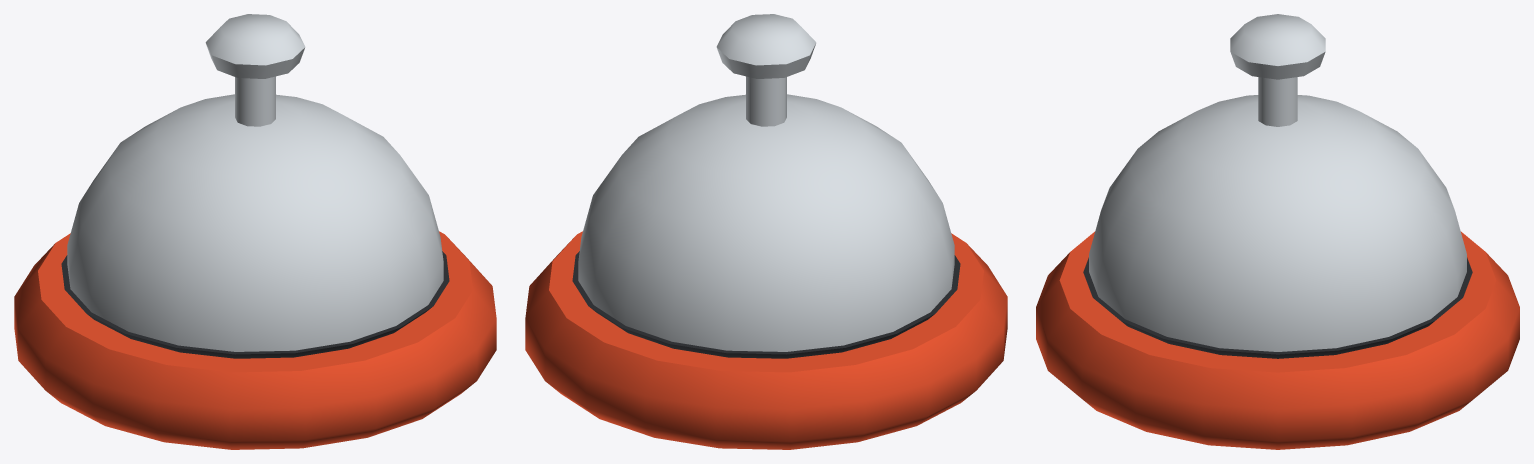
File: Kitchen_CounterBell.fbx
3 views of the same model, side by side, from view 1: azimuth 30°, elevation 25°; view 2: azimuth 150°, elevation 25°; view 3: azimuth 270°, elevation 25° (orthographic).
Parts seen in each view (by area): view 1: Dome, Base, Plunger, Seat; view 2: Dome, Base, Plunger, Seat; view 3: Dome, Base, Plunger, Seat.
Part boxes in pixels (left/top/right/bottom): Dome: left=67, top=94, right=443, bottom=351; Base: left=14, top=231, right=496, bottom=449; Plunger: left=205, top=14, right=305, bottom=126; Seat: left=61, top=251, right=449, bottom=358; Dome: left=578, top=94, right=954, bottom=351; Base: left=525, top=231, right=1007, bottom=449; Plunger: left=716, top=14, right=816, bottom=126; Seat: left=572, top=251, right=960, bottom=358; Dome: left=1089, top=95, right=1466, bottom=351; Base: left=1036, top=231, right=1519, bottom=449; Plunger: left=1230, top=14, right=1325, bottom=126; Seat: left=1083, top=257, right=1472, bottom=358.
Size of the model in its own units: 82 by 61.5 by 82.
